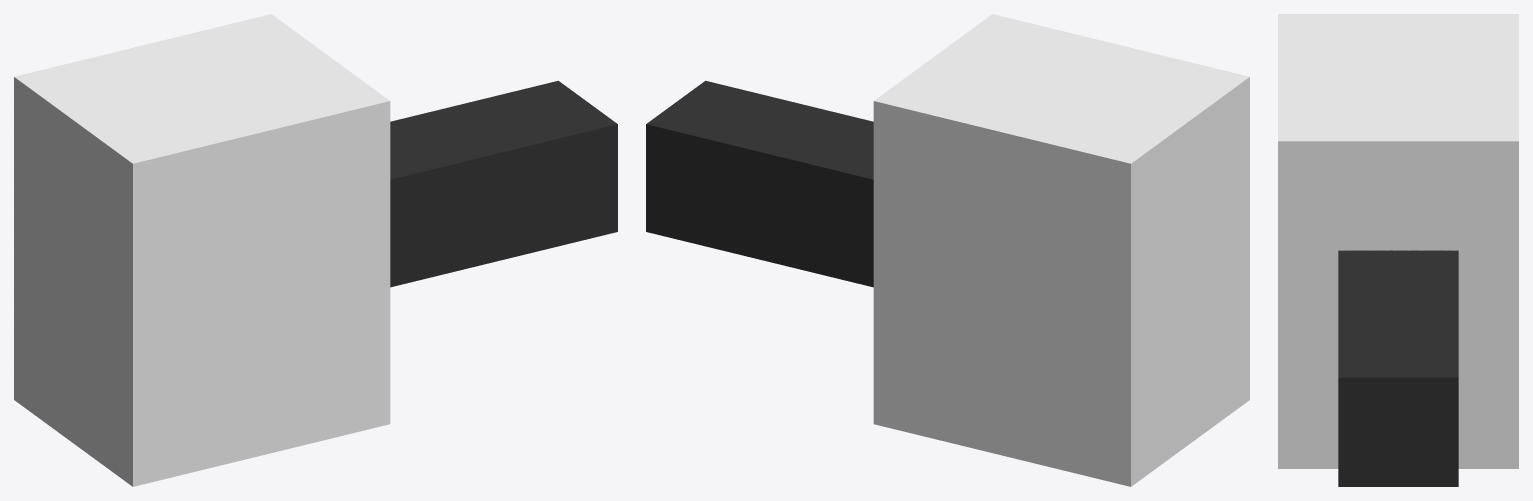
File: fort.fbx
3 views of the same model, side by side, from view 1: azimuth 30°, elevation 25°; view 2: azimuth 150°, elevation 25°; view 3: azimuth 270°, elevation 25° (orthographic).
Parts seen in each view (by area): view 1: fort; view 2: fort; view 3: fort.
Part boxes in pixels (left/top/right/bottom): fort: left=14, top=14, right=617, bottom=486; fort: left=646, top=14, right=1249, bottom=486; fort: left=1278, top=14, right=1518, bottom=486.
Bounding box in the file's own units: 10 × 6 × 4.
